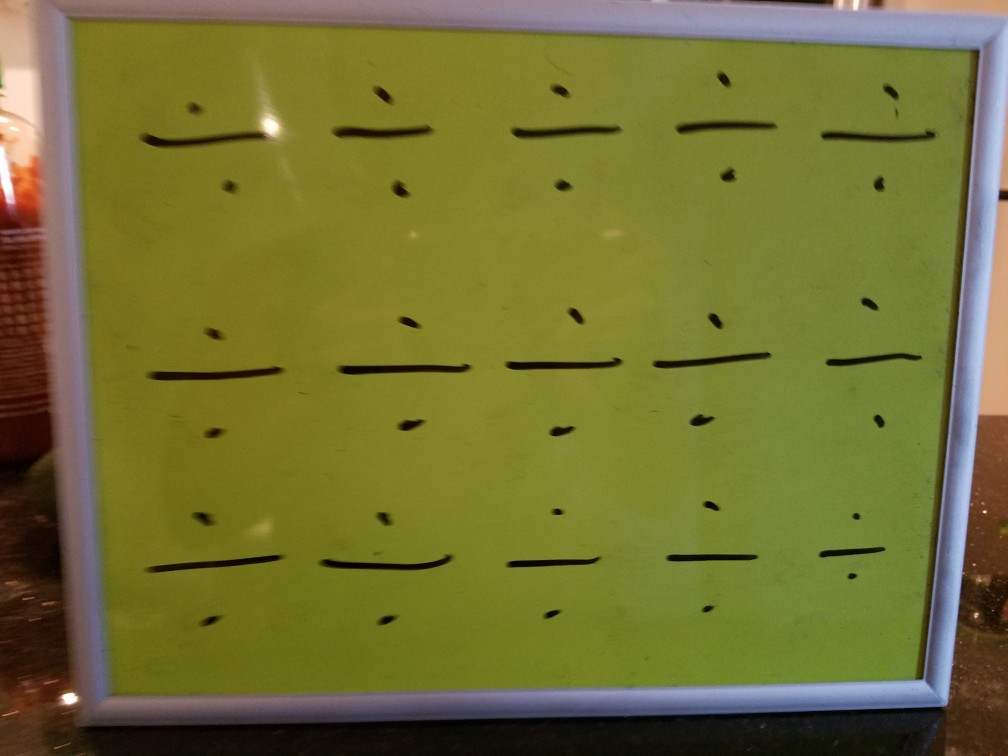div: (316, 293, 498, 450), (127, 492, 294, 652), (499, 293, 636, 462), (139, 300, 297, 444), (806, 279, 929, 445), (481, 489, 621, 630), (658, 54, 795, 195), (485, 66, 632, 197), (647, 477, 775, 627), (641, 297, 771, 440), (136, 80, 281, 207), (321, 499, 452, 630), (322, 70, 448, 206), (813, 64, 939, 198), (797, 504, 905, 603)
